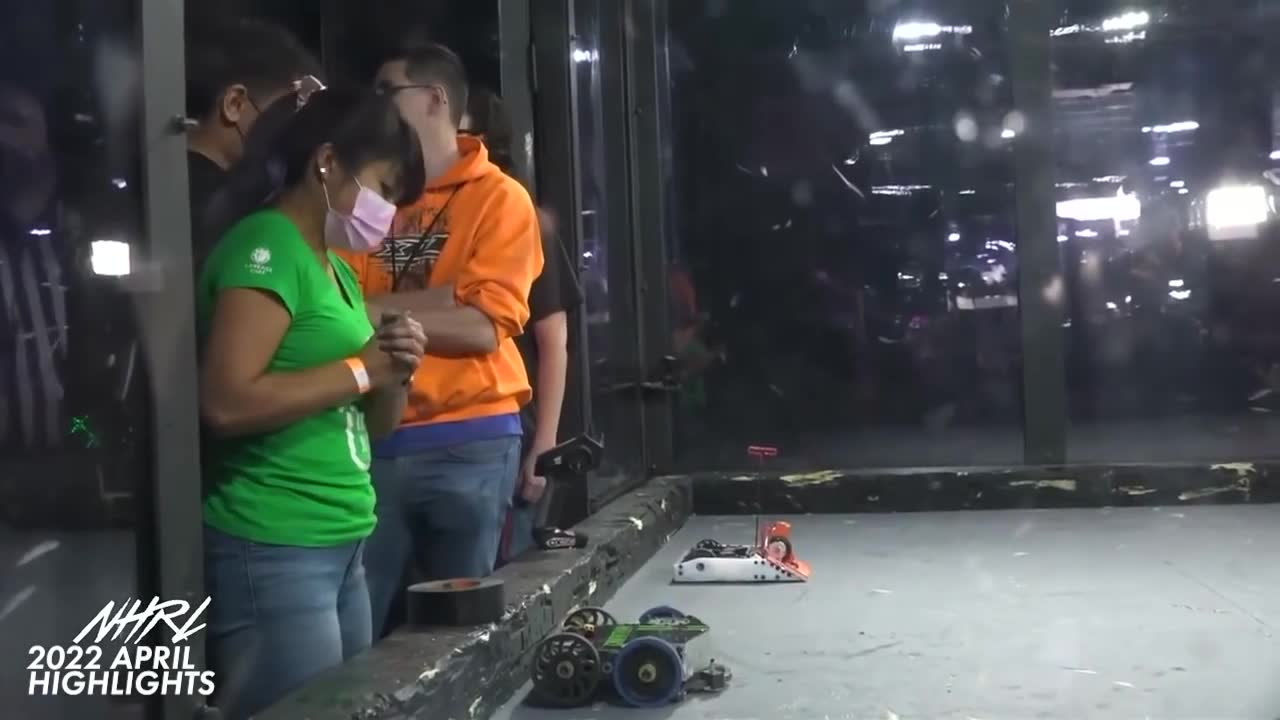combatbot: (525, 602, 740, 713), (668, 517, 815, 585)
